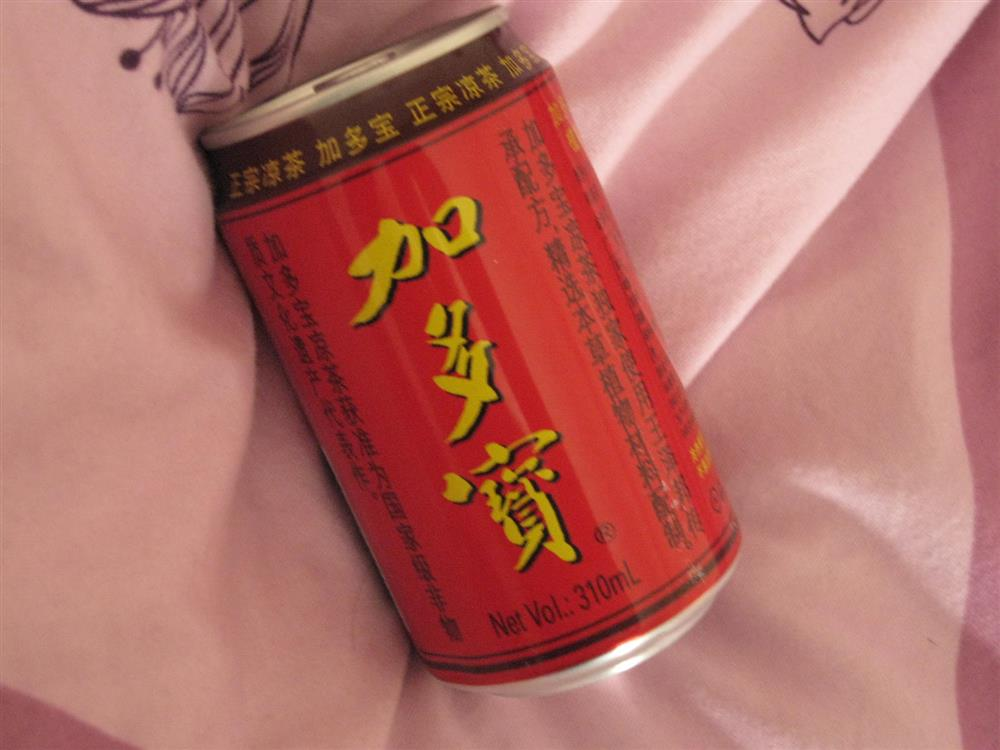JDB: (205, 37, 733, 698)
